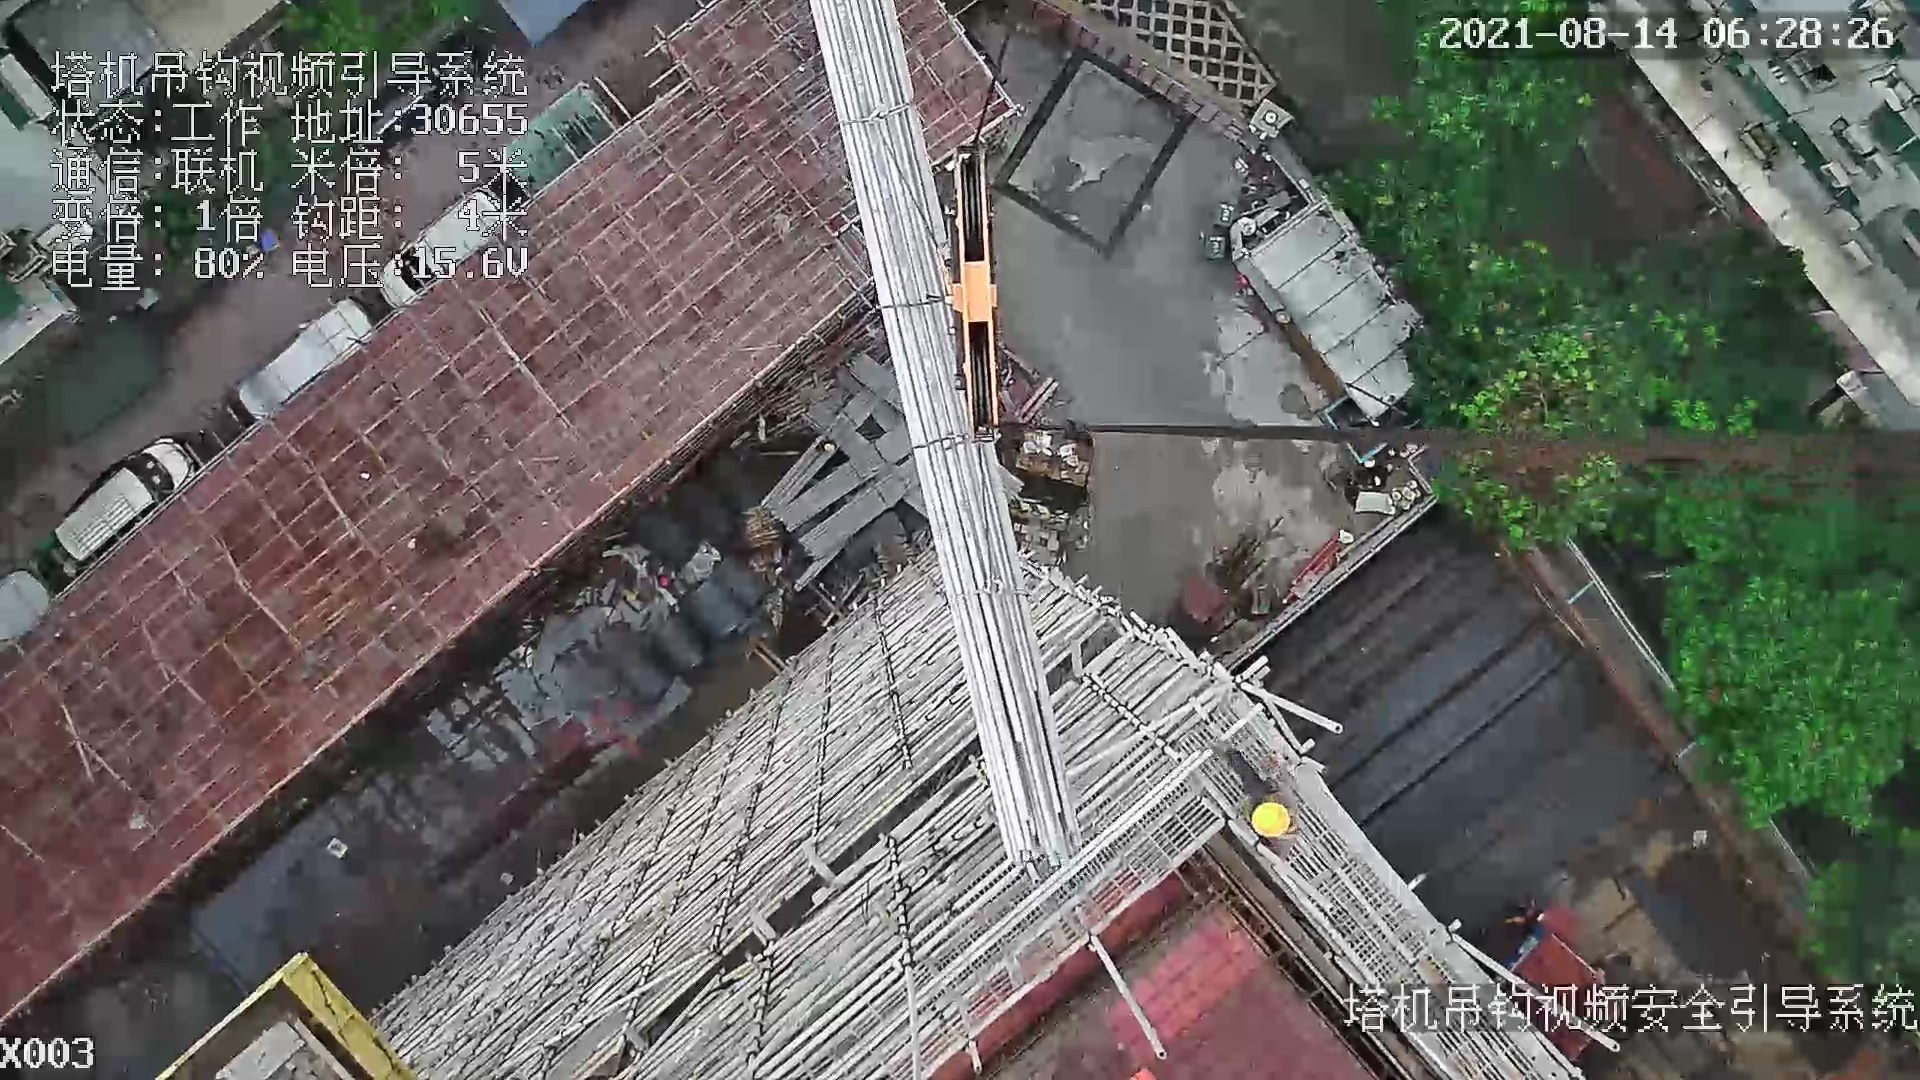helmet: (1248, 801, 1304, 854)
hook: (953, 143, 1006, 449)
person: (1233, 772, 1297, 860)
